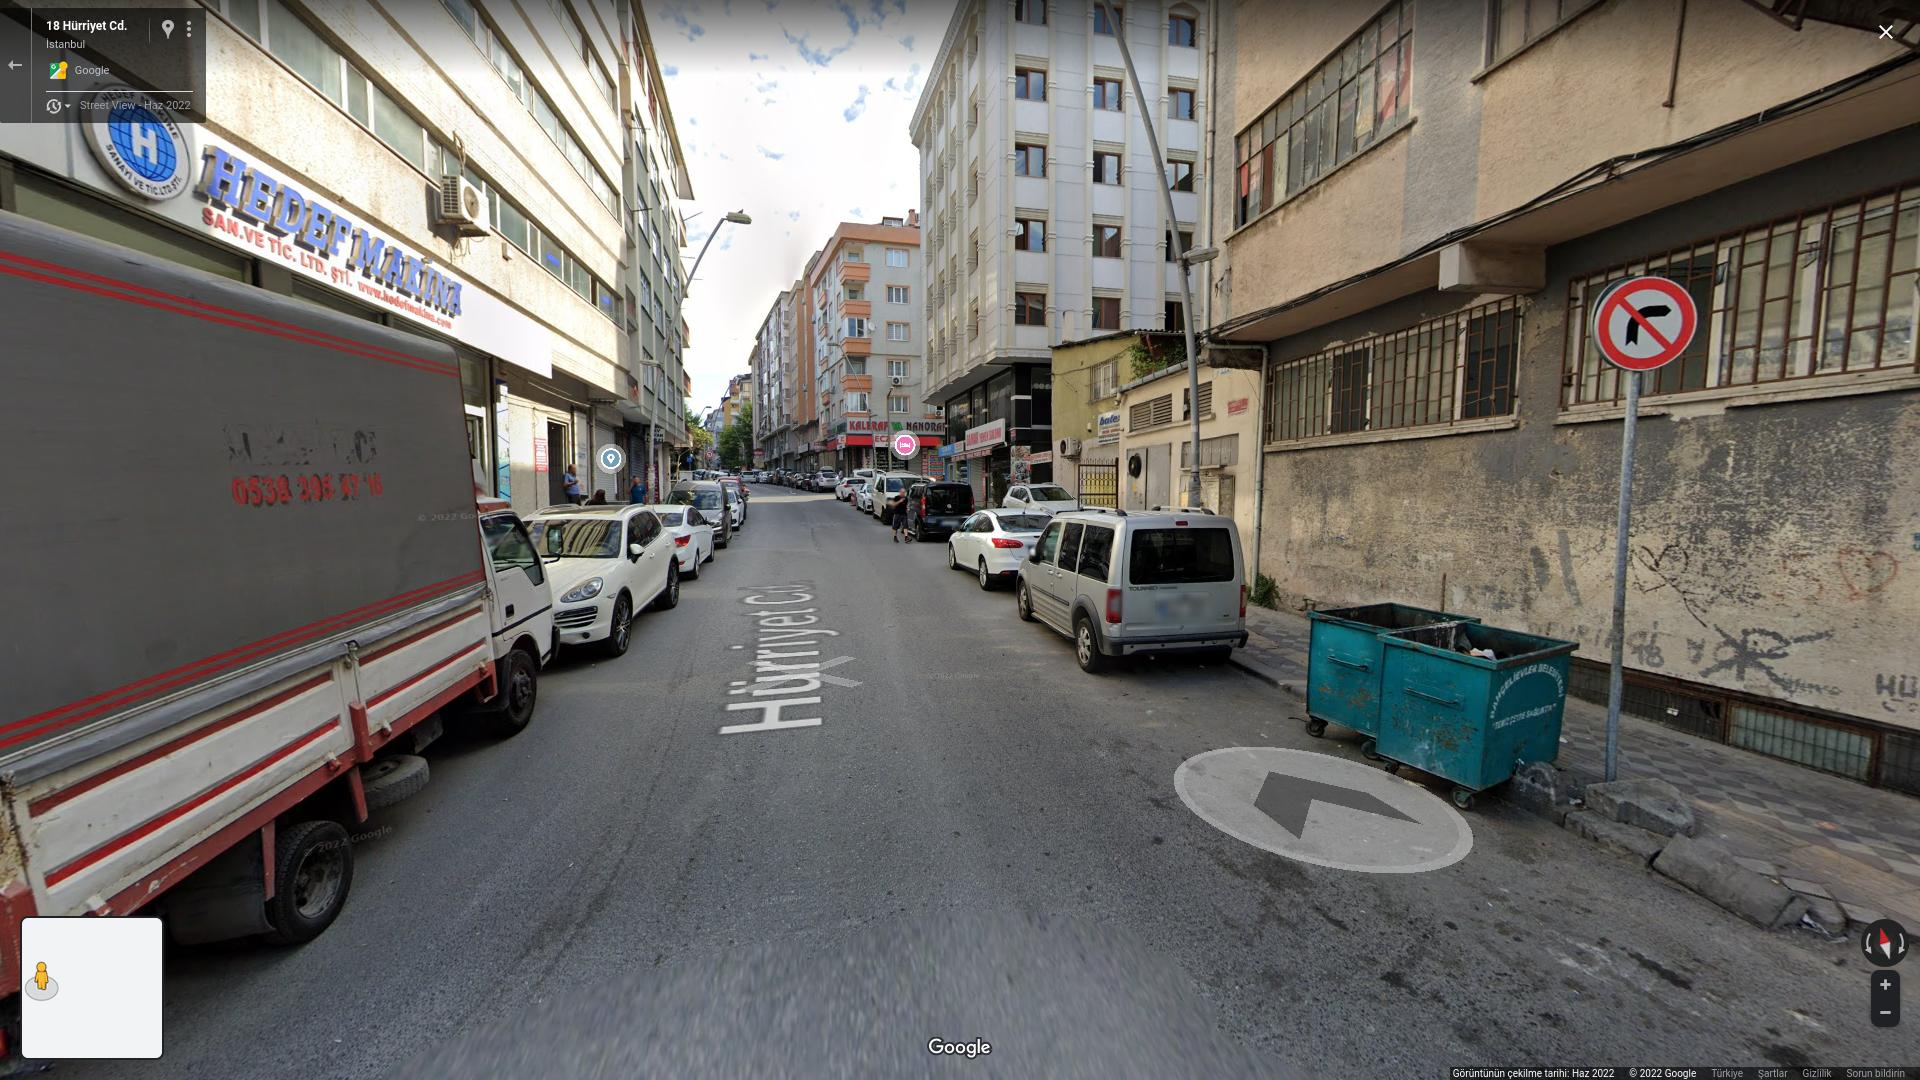rightturnsareforbidden: (1592, 276, 1697, 371)
